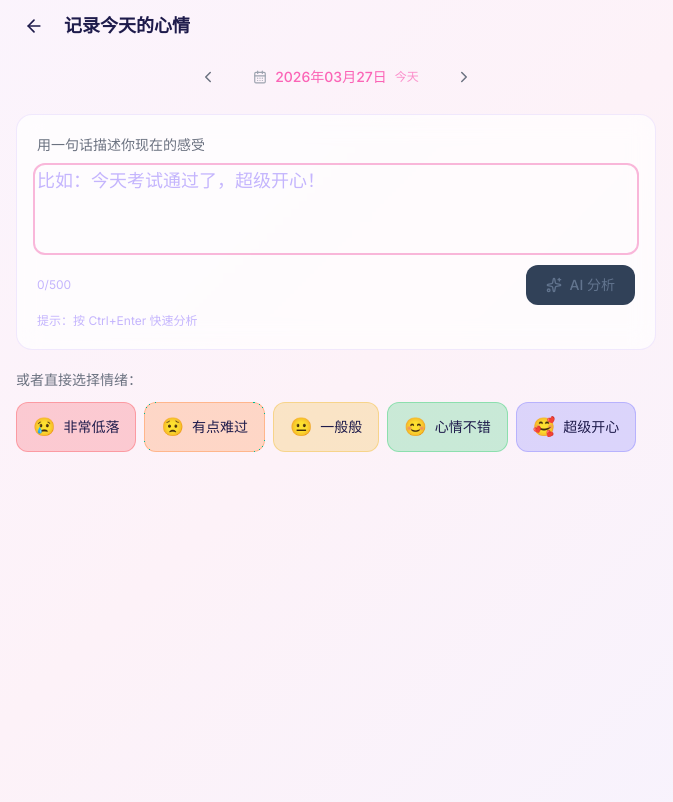
Test case: RecordPage › should handle manual mood selection
Click the button with aria-label "选择情绪：心情不错" at point(448, 427), box [387, 402, 508, 452]
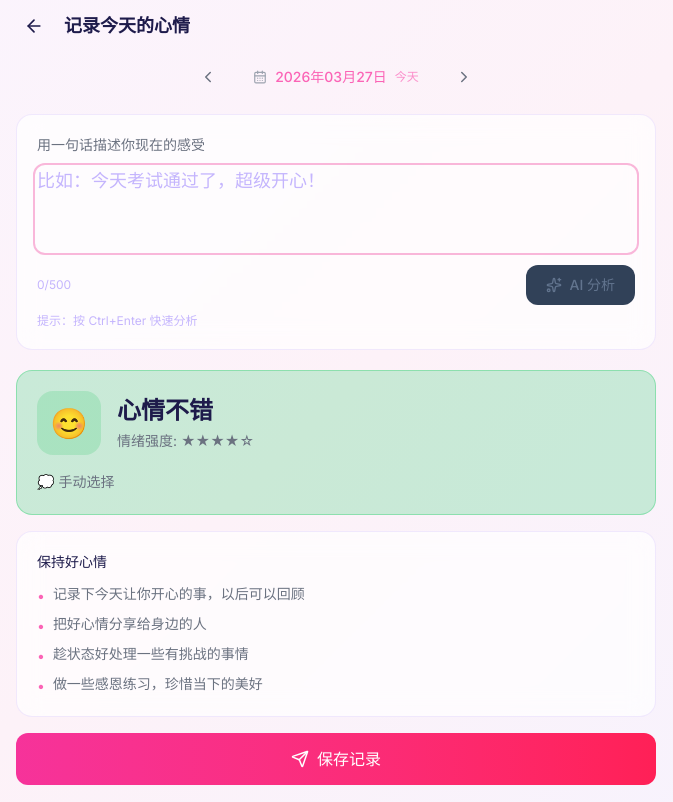
Expected: the text "心情不错" is shown, [117, 396, 213, 425]
Now the button "保存记录" is shown, box [16, 733, 656, 785]
